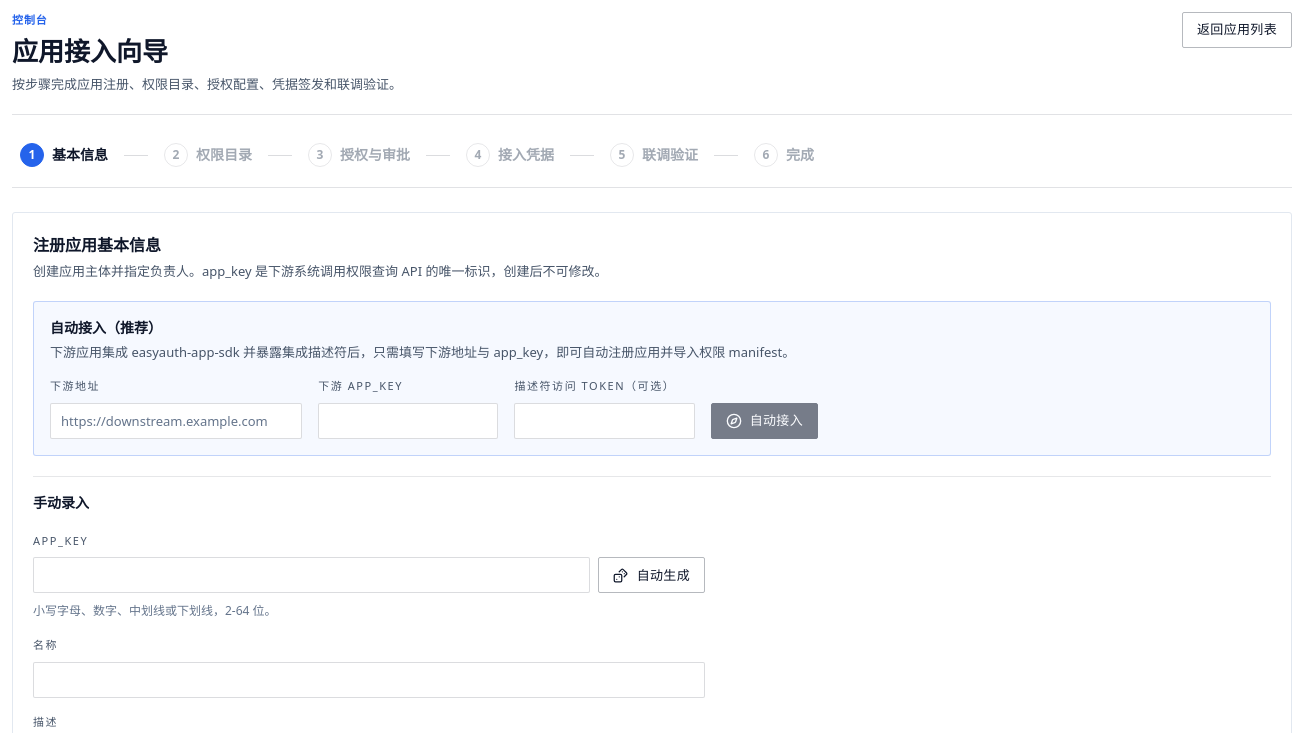
it: AppOnboardingWizard › 自动接入成功后可直接进入配置检查步骤
The image size is (1292, 733).
Check: the heading "注册应用基本信息" is shown, box [33, 234, 161, 256]
Type "http://localhost:8000" into the field labelled "下游地址" at (176, 421), box [50, 403, 302, 439]
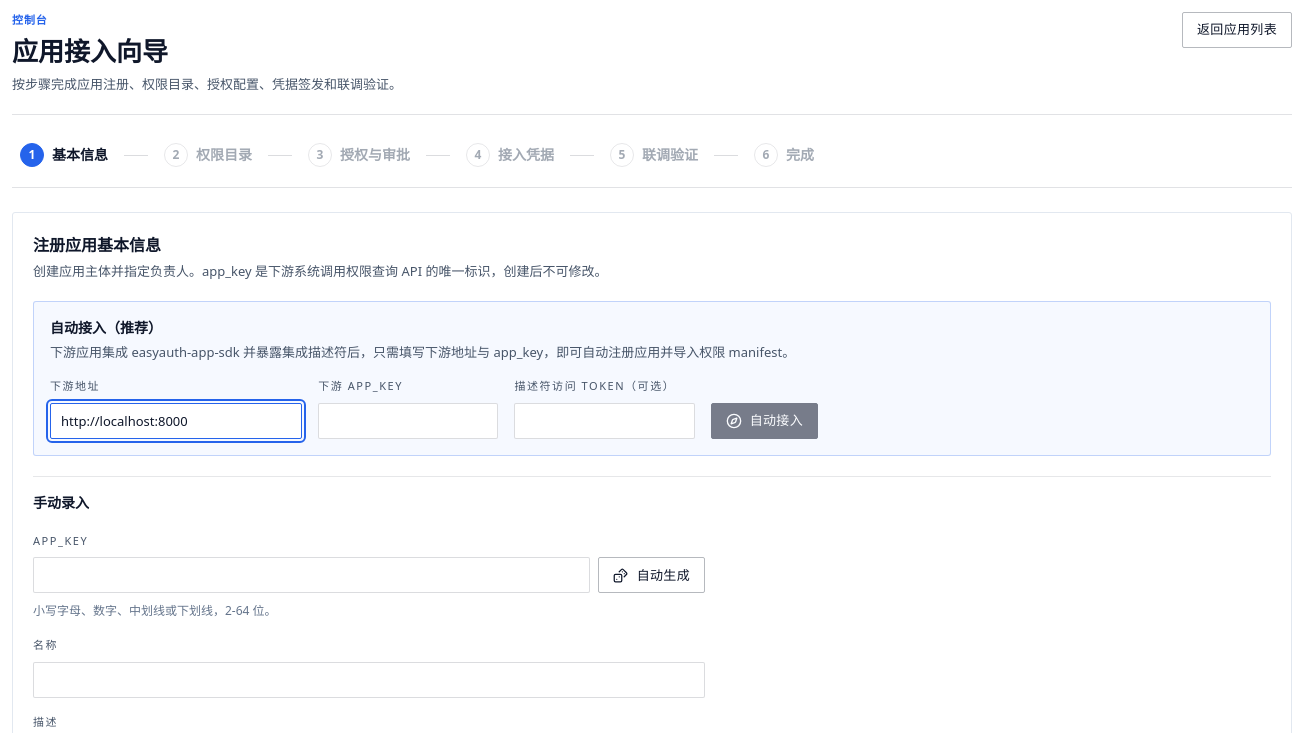
Type "billing" into the field labelled "下游 app_key" at (408, 421), box [318, 403, 498, 439]
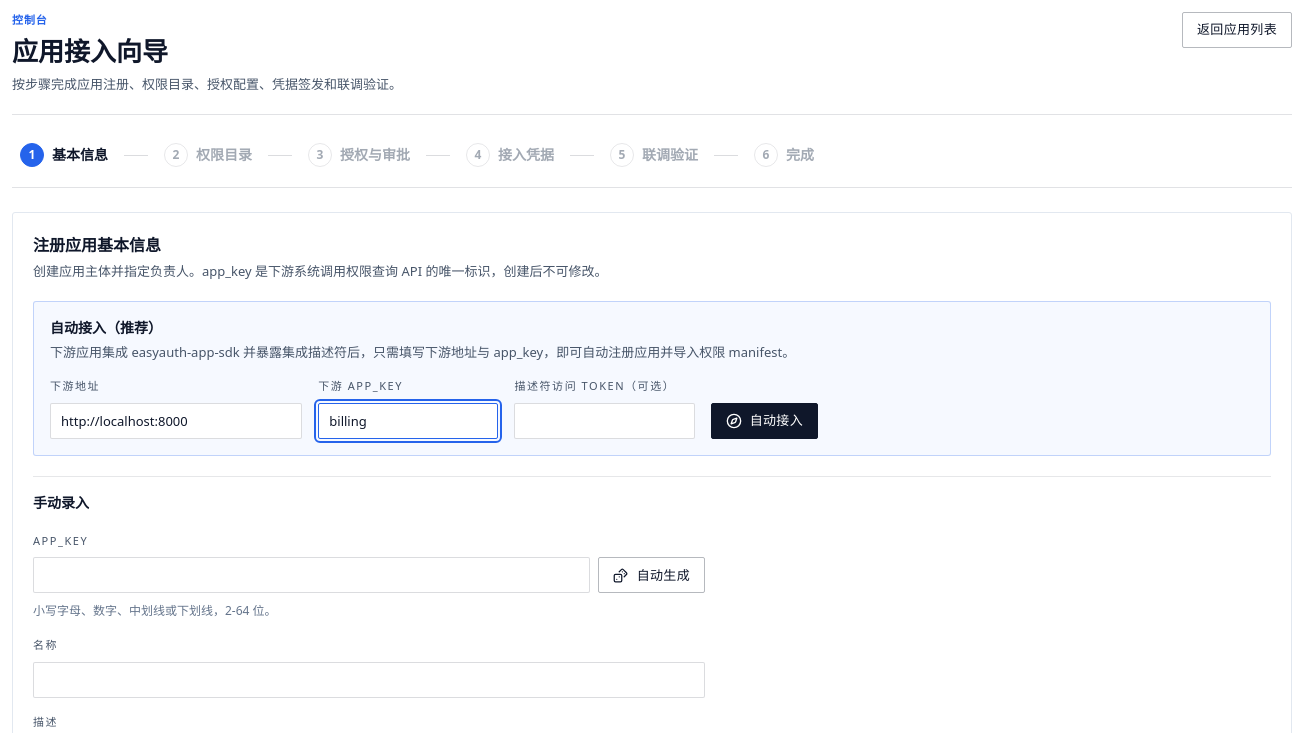
Click the button "自动接入" at (764, 421), box [711, 403, 818, 439]
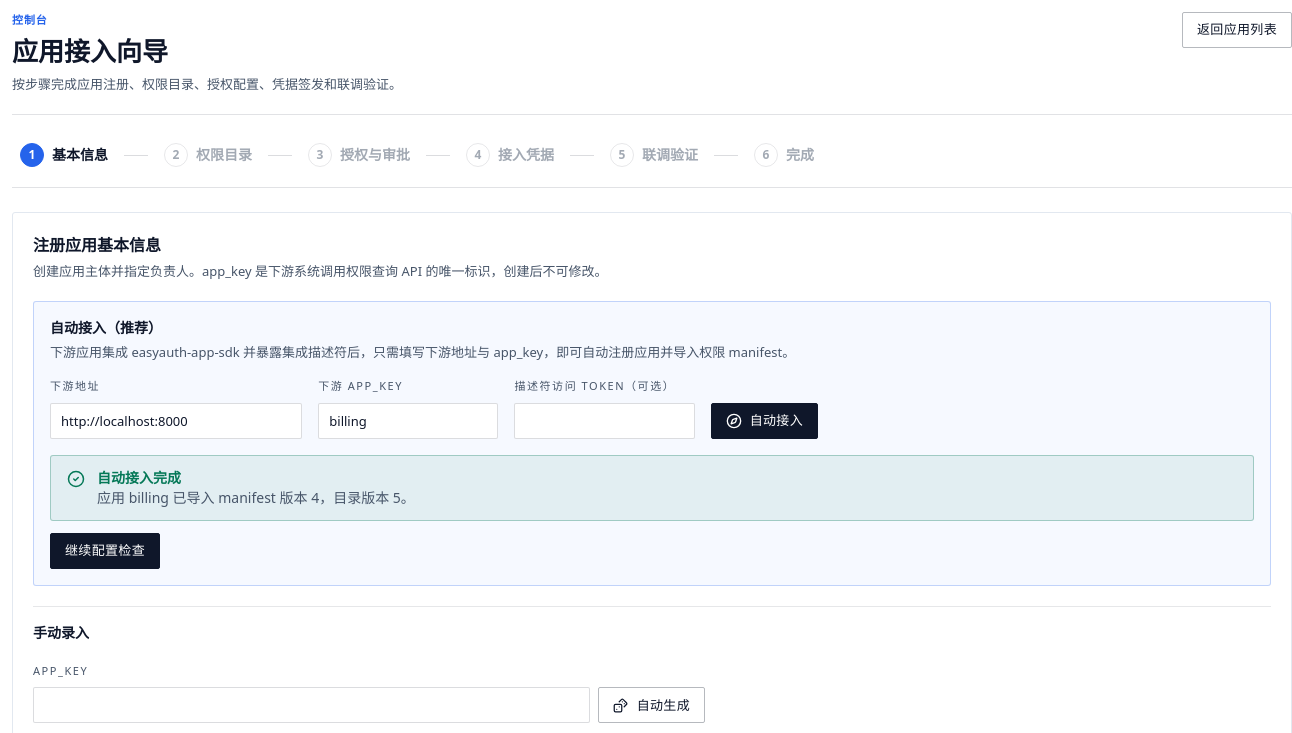
Check: the text "自动接入完成" is shown, box [97, 468, 181, 487]
Click the button "继续配置检查" at (105, 551), box [50, 533, 160, 569]
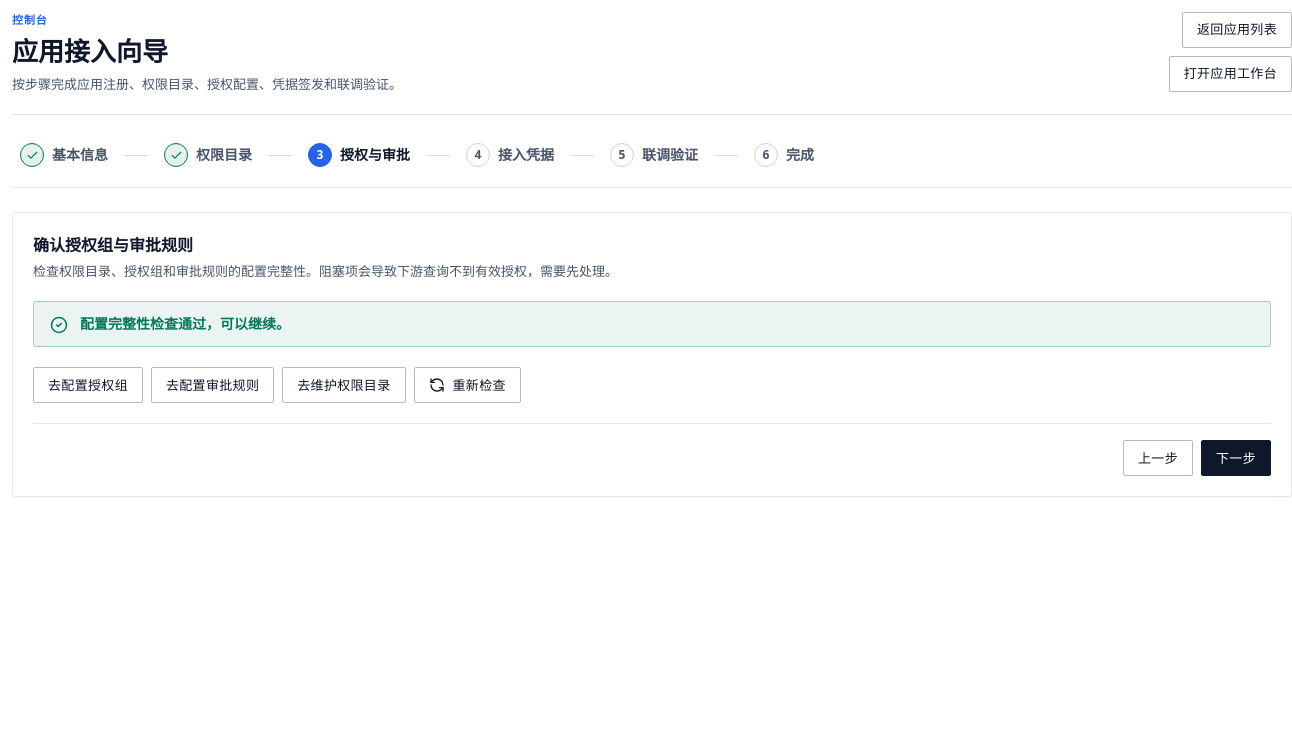
Check: the heading "确认授权组与审批规则" is shown, box [33, 234, 193, 256]
